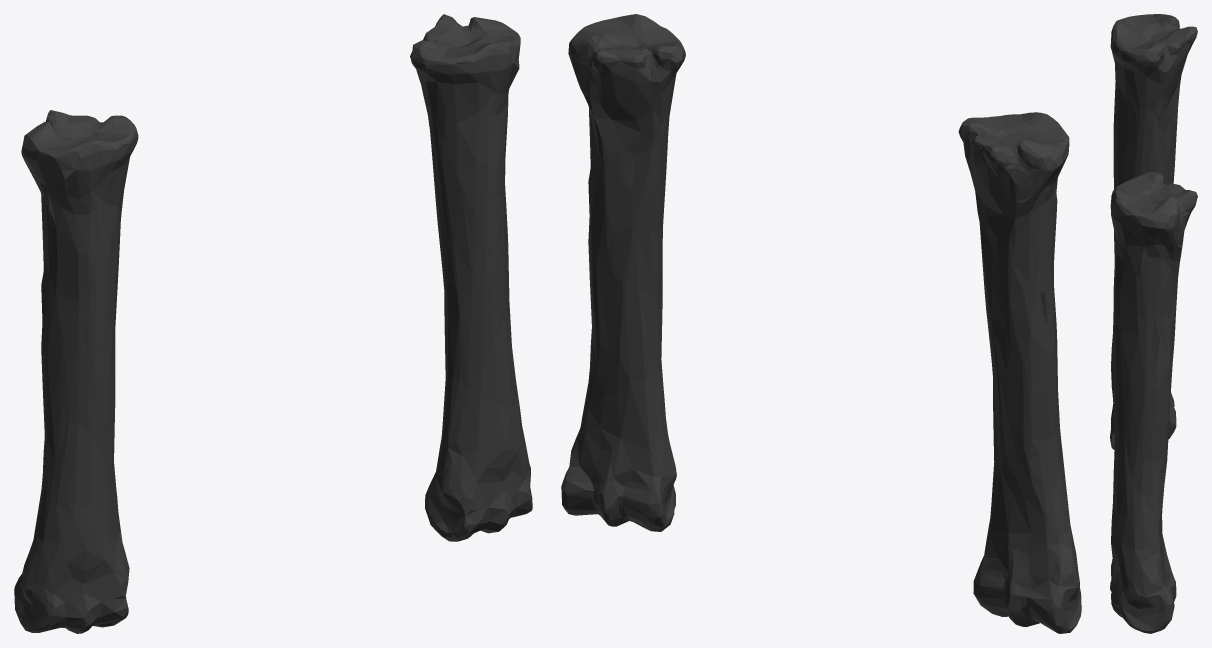
File: skel_HL_cannon_bone.glb
3 renders of one model, left to right at view 1: azimuth 30°, elevation 25°; view 2: azimuth 150°, elevation 25°; view 3: azimuth 270°, elevation 25°, orthographic. The views are drawn at different scales.
Visible parts, largest first — view 1: skel_HL_cannon_bone; view 2: skel_HL_cannon_bone; view 3: skel_HL_cannon_bone.
Part boxes in pixels (left/top/right/bottom): skel_HL_cannon_bone: left=14, top=14, right=532, bottom=633; skel_HL_cannon_bone: left=561, top=14, right=1081, bottom=633; skel_HL_cannon_bone: left=1110, top=14, right=1197, bottom=633.
Size of the model in its own units: 0.00558 by 0.00525 by 0.000977.
1 material, 1 textured.
